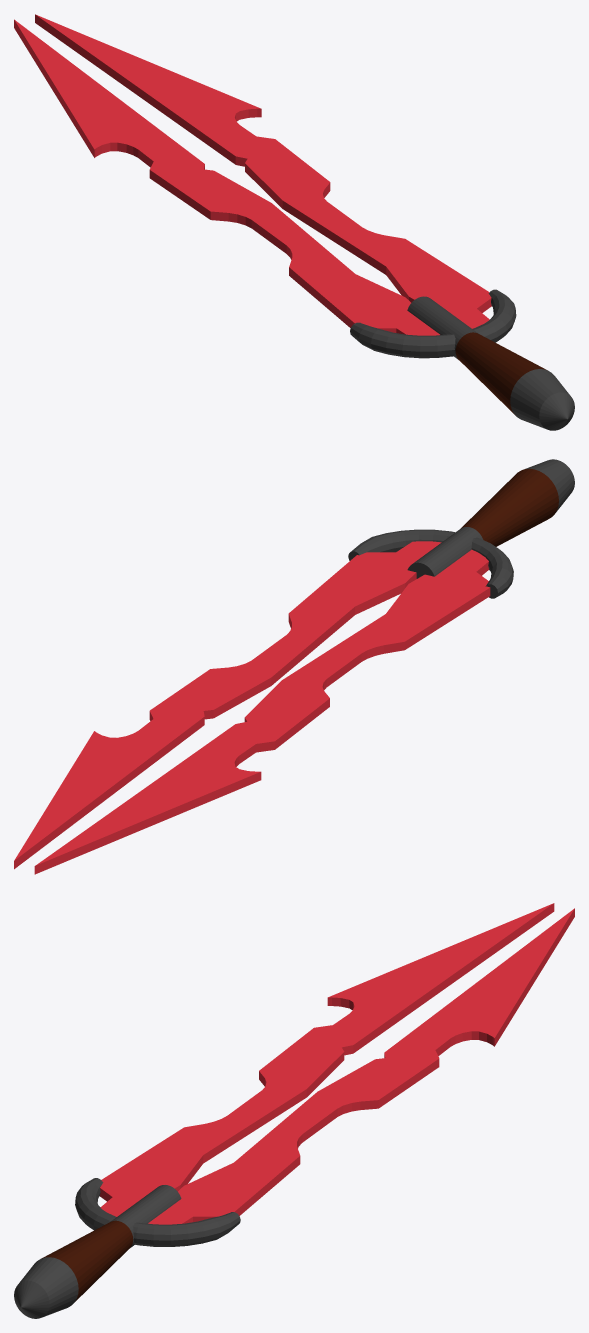
3 views of the same model, one above another, from view 1: azimuth 30°, elevation 25°; view 2: azimuth 150°, elevation 25°; view 3: azimuth 330°, elevation 25° (orthographic).
Visible parts, largest first — view 1: 73; view 2: 73; view 3: 73.
Boxes of the visible parts, left/top/right/bottom form: 73: left=14, top=14, right=574, bottom=430; 73: left=14, top=459, right=574, bottom=874; 73: left=14, top=903, right=574, bottom=1318.
Size of the model in its own units: 11.08 by 3.23 by 62.41.
